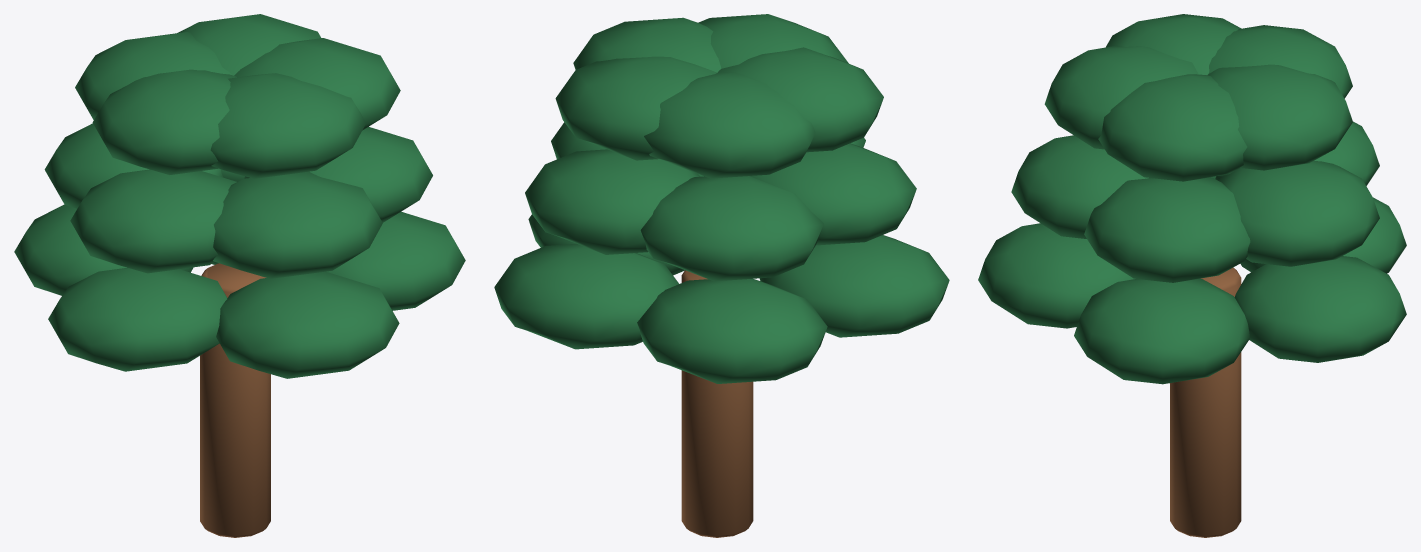
Rendered from org_conifer.glb.
3 renders of one model, left to right at view 1: azimuth 30°, elevation 25°; view 2: azimuth 150°, elevation 25°; view 3: azimuth 270°, elevation 25°, orthographic.
Visible parts, largest first — view 1: Foliage, Trunk; view 2: Foliage, Trunk; view 3: Foliage, Trunk.
Boxes of the visible parts, bbox=[...] form: Foliage: bbox=[14, 14, 465, 378]; Trunk: bbox=[200, 263, 270, 537]; Foliage: bbox=[494, 14, 949, 383]; Trunk: bbox=[681, 270, 753, 537]; Foliage: bbox=[978, 14, 1406, 384]; Trunk: bbox=[1170, 267, 1241, 537].
Bounding box in the file's own units: 2.32 × 2.6 × 2.18.
